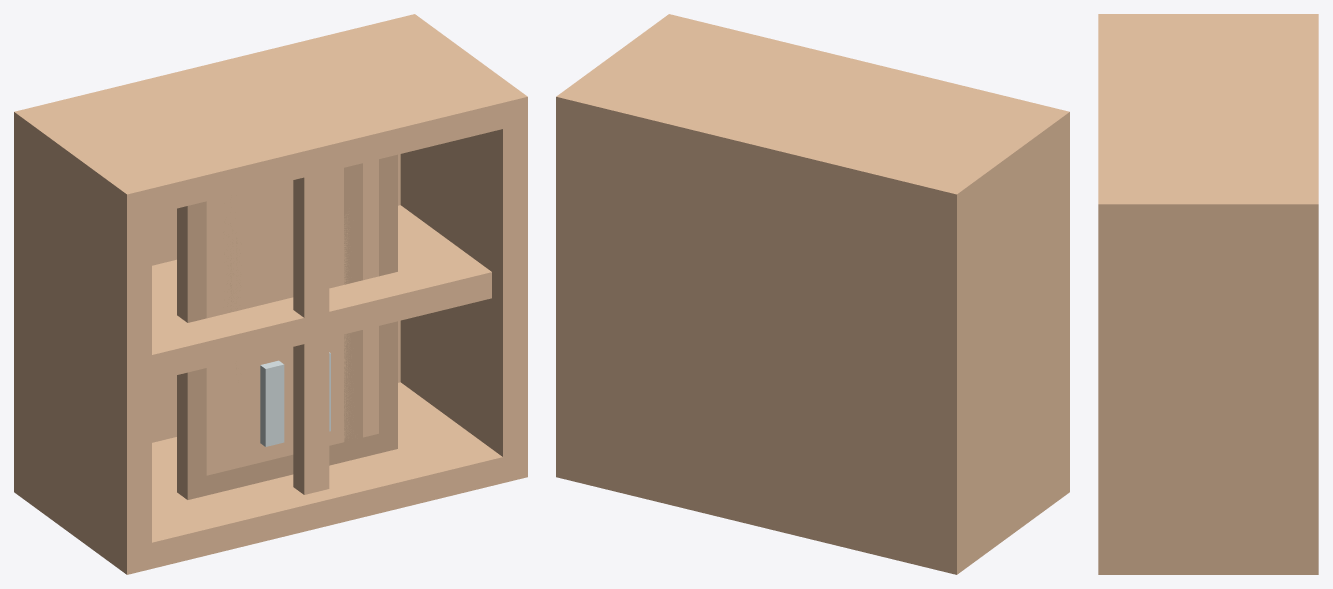
Rendered from kitchenCabinetUpperDouble.glb.
3 views of the same model, side by side, from view 1: azimuth 30°, elevation 25°; view 2: azimuth 150°, elevation 25°; view 3: azimuth 270°, elevation 25° (orthographic). The views are drawn at different scales.
Visible parts, largest first — view 1: kitchenCabinetUpperDouble, kitchenCabinetUpperDouble.001, kitchenCabinetUpperDouble.002; view 2: kitchenCabinetUpperDouble; view 3: kitchenCabinetUpperDouble.
Boxes of the visible parts, x1,y1,x2,y2 form: kitchenCabinetUpperDouble: [14, 14, 527, 574]; kitchenCabinetUpperDouble.001: [177, 163, 362, 499]; kitchenCabinetUpperDouble.002: [223, 154, 397, 457]; kitchenCabinetUpperDouble: [556, 14, 1069, 574]; kitchenCabinetUpperDouble: [1098, 14, 1318, 574].
Size of the model in its own units: 1.25 by 1.13 by 0.609.
